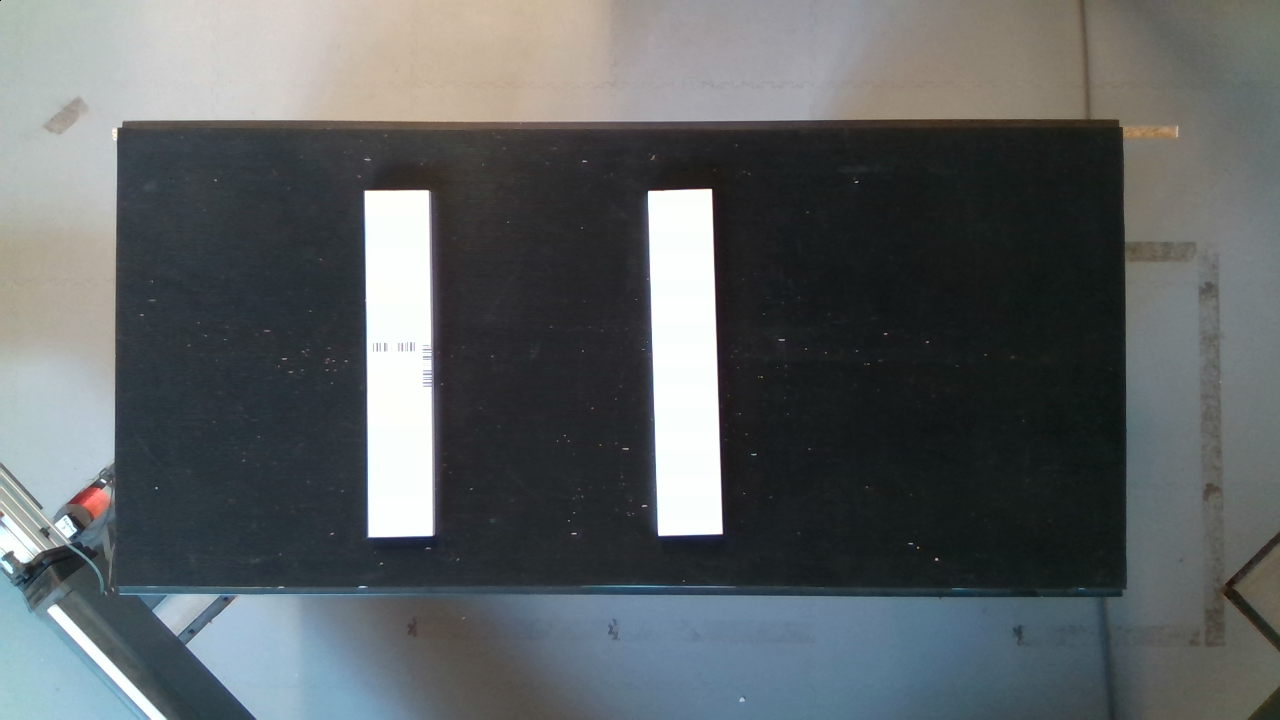barcode: (355, 329, 447, 401)
part1: (637, 176, 739, 552), (350, 177, 445, 553)
